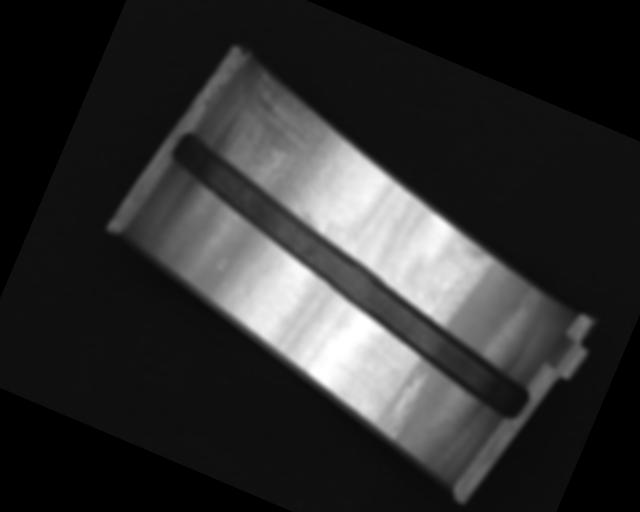bruise: (215, 256, 230, 272)
gap: (128, 128, 575, 424)
nick: (381, 363, 431, 446), (428, 275, 462, 326)
scratch: (194, 58, 370, 232)
